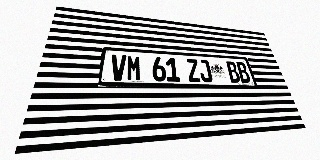1: (165, 57, 180, 82)
6: (152, 57, 167, 81)
B: (225, 61, 241, 83), (235, 62, 251, 83)
J: (197, 59, 213, 82)
M: (126, 55, 141, 81)
V: (110, 54, 126, 81)
Z: (186, 59, 201, 82)
